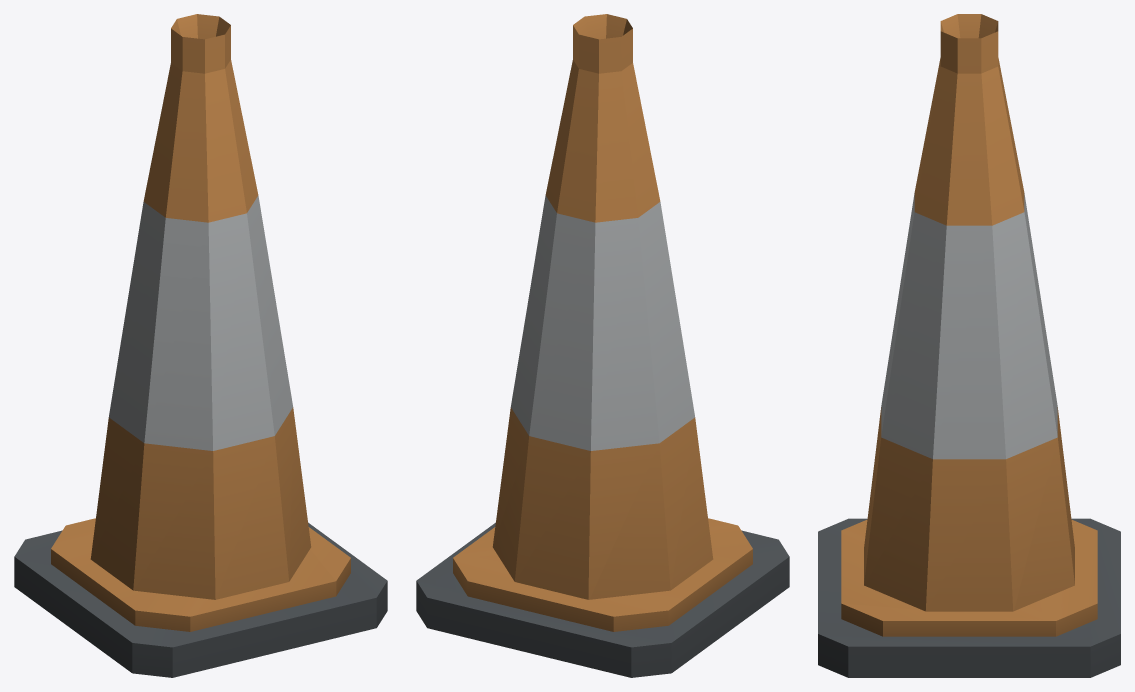
The picture shows the model from 3 angles, left to right: view 1: azimuth 30°, elevation 25°; view 2: azimuth 150°, elevation 25°; view 3: azimuth 270°, elevation 25°; orthographic projection. The views are drawn at different scales.
Visible parts, largest first — view 1: cone; view 2: cone; view 3: cone.
Part boxes in pixels (left/top/right/bottom): cone: left=14, top=14, right=387, bottom=677; cone: left=416, top=14, right=789, bottom=677; cone: left=818, top=14, right=1120, bottom=677.
Bounding box in the file's own units: 0.35 × 0.75 × 0.35.
